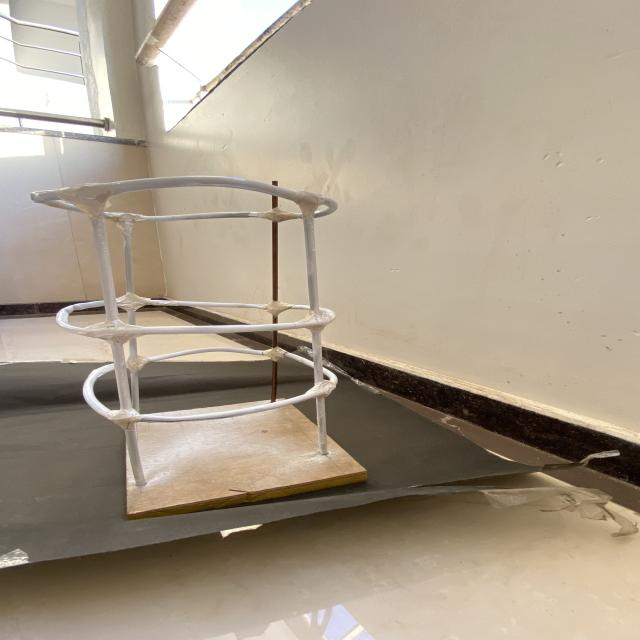silo: (12, 161, 378, 503)
